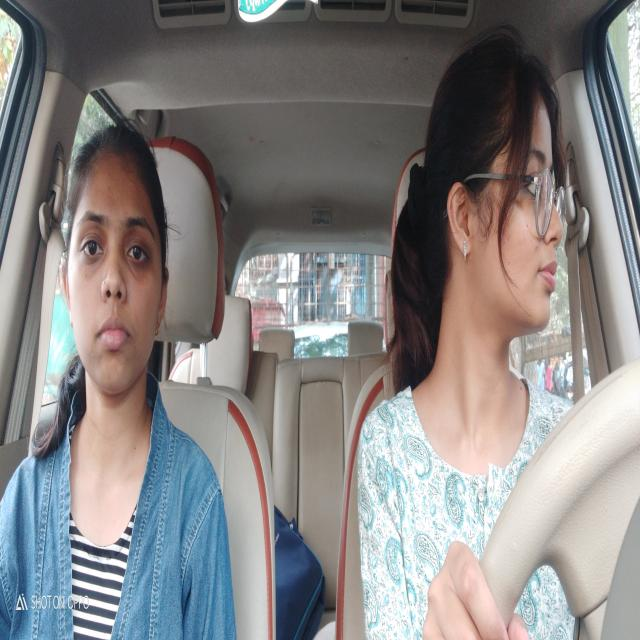LeftRight: (52, 105, 61, 125)
